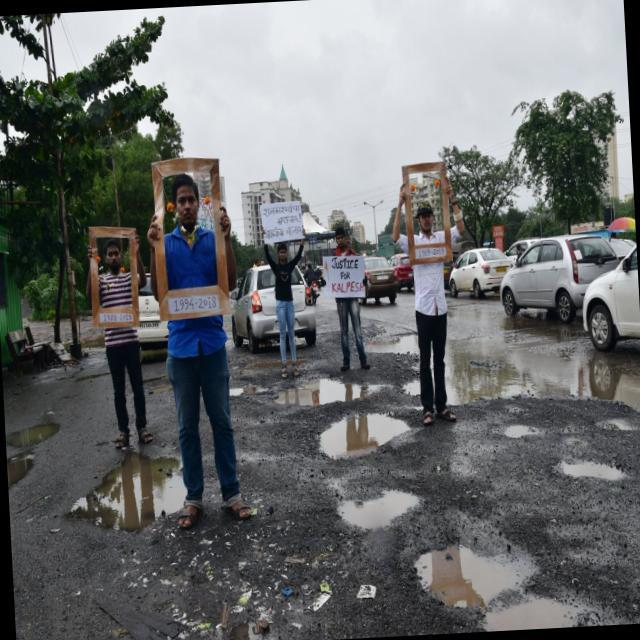Pothole: (360, 304, 640, 447), (381, 496, 594, 636), (74, 434, 194, 552), (5, 422, 79, 528), (320, 472, 430, 536), (312, 404, 421, 466), (262, 373, 399, 420), (555, 445, 637, 506), (497, 410, 561, 450), (591, 409, 640, 452), (243, 353, 320, 376), (210, 376, 248, 409)
